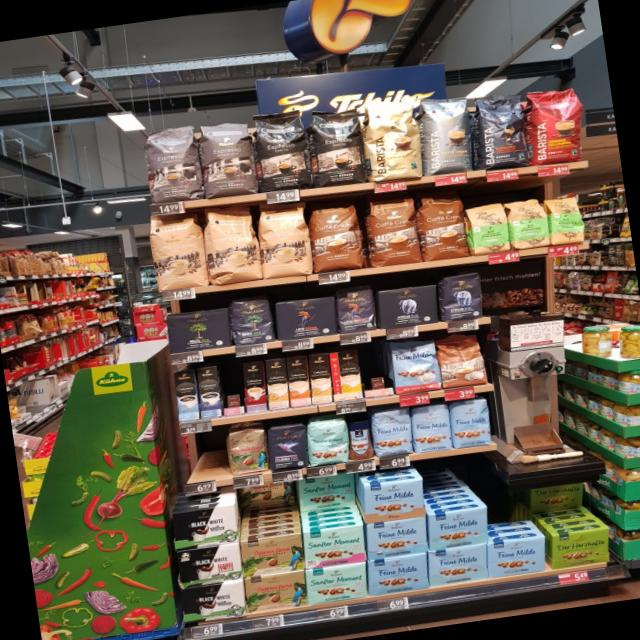AB Bohne: (434, 270, 486, 324)
AB Gemahlen: (372, 282, 442, 332)
Athiopien Bohne: (545, 192, 587, 248)
Athiopien Gemahlen: (504, 196, 552, 252), (466, 201, 513, 257)
BM Bohne: (227, 294, 277, 348)
BM Gemahlen: (164, 306, 235, 357)
BW Gemahlen: (171, 504, 241, 552), (176, 542, 244, 590), (180, 579, 248, 626)
Barista CB: (359, 91, 427, 187)
Barista CC: (416, 90, 476, 178)
Barista Espresso: (470, 84, 534, 174)
Barista Kolumbien: (524, 82, 592, 170)
C Fino Bohne: (264, 420, 312, 472)
CC Mild: (146, 210, 211, 295), (200, 202, 264, 287), (253, 198, 314, 282)
CC Vollmundig: (435, 328, 489, 389)
CC Vollmundig 36 Pads: (358, 191, 425, 271), (414, 186, 474, 264), (306, 200, 368, 275), (284, 354, 314, 408)
Colombia BB Bohne: (224, 422, 272, 478)
Colombia BB Gemahlen: (239, 532, 308, 580), (242, 570, 309, 614)
Empty Shelf: (189, 430, 233, 481), (358, 343, 394, 398), (217, 362, 247, 418)
Espresso Aromatisch: (138, 123, 208, 210), (195, 116, 260, 202)
Espresso Kraftig: (304, 100, 372, 190), (248, 108, 316, 196)
FM 36 Pads: (386, 336, 444, 396)
FM Bohne: (370, 405, 418, 460), (408, 400, 454, 454), (448, 396, 493, 450)
FM Gemahlen: (424, 504, 494, 552), (361, 476, 429, 524), (365, 552, 432, 598), (424, 542, 492, 587), (364, 516, 431, 561), (485, 535, 546, 579)
FM Instant: (344, 416, 377, 460)
Herzhatfe Mundig: (551, 526, 611, 571)
LG Bohne: (334, 284, 381, 336)
LG Gemahlen: (272, 294, 339, 342)
SM Bohne: (304, 414, 352, 467)
SM Gemahlen: (302, 524, 368, 570), (303, 561, 371, 605), (294, 472, 358, 514)
Simo CCMild: (328, 348, 365, 403)
Simo Decaff: (262, 356, 292, 412)
Simo Es Kraft: (240, 360, 270, 414)
Simo Kaffee Kraft: (196, 365, 224, 419)
Simo Kaffee Mild: (172, 368, 201, 422)
